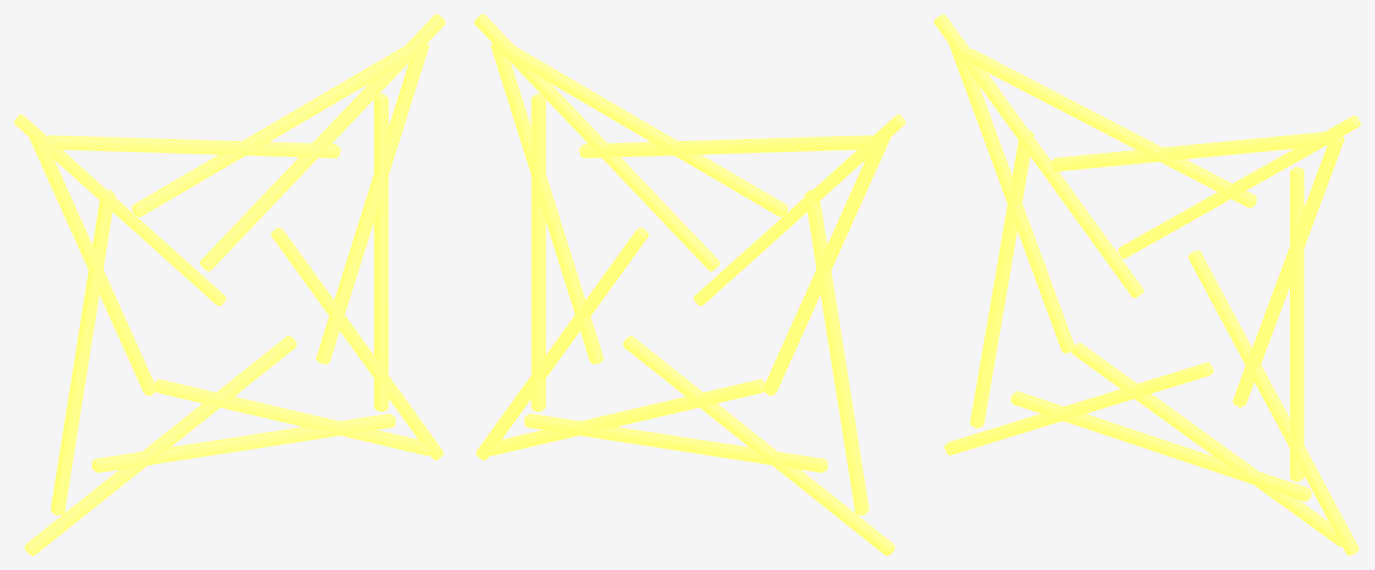
The model's file is VXDR_INTERCEPT_v002_FX.fbx.
The picture shows the model from 3 angles, left to right: view 1: azimuth 30°, elevation 25°; view 2: azimuth 150°, elevation 25°; view 3: azimuth 330°, elevation 25°; orthographic projection.
Visible parts, largest first — view 1: Impact spark.007, Impact spark.003, Impact spark.004, Impact spark.011, Impact spark.008, Impact spark, Impact spark.002, Impact spark.006, Impact spark.009, Impact spark.010, Impact spark.005, Impact spark.001; view 2: Impact spark.007, Impact spark.003, Impact spark.004, Impact spark.011, Impact spark.008, Impact spark, Impact spark.002, Impact spark.006, Impact spark.009, Impact spark.005, Impact spark.010, Impact spark.001; view 3: Impact spark.001, Impact spark.005, Impact spark.006, Impact spark.009, Impact spark.010, Impact spark.002, Impact spark, Impact spark.004, Impact spark.008, Impact spark.011, Impact spark.007, Impact spark.003.
Part boxes in pixels (bbox=[...]): Impact spark.007: bbox=[24, 336, 296, 555]; Impact spark.003: bbox=[200, 14, 445, 271]; Impact spark.004: bbox=[50, 189, 115, 515]; Impact spark.011: bbox=[132, 46, 421, 217]; Impact spark.008: bbox=[316, 43, 429, 364]; Impact spark: bbox=[374, 93, 388, 412]; Impact spark.002: bbox=[92, 413, 395, 472]; Impact spark.006: bbox=[48, 135, 340, 158]; Impact spark.009: bbox=[29, 134, 156, 395]; Impact spark.010: bbox=[155, 379, 431, 455]; Impact spark.005: bbox=[271, 227, 443, 460]; Impact spark.001: bbox=[14, 114, 226, 305]; Impact spark.007: bbox=[623, 336, 895, 555]; Impact spark.003: bbox=[474, 14, 719, 271]; Impact spark.004: bbox=[804, 189, 869, 515]; Impact spark.011: bbox=[497, 46, 787, 217]; Impact spark.008: bbox=[490, 43, 603, 364]; Impact spark: bbox=[531, 93, 545, 412]; Impact spark.002: bbox=[524, 413, 827, 472]; Impact spark.006: bbox=[579, 135, 871, 158]; Impact spark.009: bbox=[763, 134, 890, 395]; Impact spark.005: bbox=[476, 227, 648, 460]; Impact spark.010: bbox=[488, 379, 764, 455]; Impact spark.001: bbox=[693, 114, 905, 305]; Impact spark.001: bbox=[934, 14, 1143, 298]; Impact spark.005: bbox=[1188, 250, 1358, 555]; Impact spark.006: bbox=[965, 48, 1256, 208]; Impact spark.009: bbox=[948, 43, 1074, 353]; Impact spark.010: bbox=[1072, 343, 1342, 546]; Impact spark.002: bbox=[1011, 391, 1311, 501]; Impact spark: bbox=[1290, 167, 1304, 482]; Impact spark.004: bbox=[970, 130, 1033, 428]; Impact spark.008: bbox=[1232, 136, 1344, 407]; Impact spark.011: bbox=[1050, 132, 1331, 171]; Impact spark.007: bbox=[944, 362, 1213, 455]; Impact spark.003: bbox=[1118, 115, 1360, 258].
Size of the model in its own units: 19.92 by 19.75 by 0.5.
